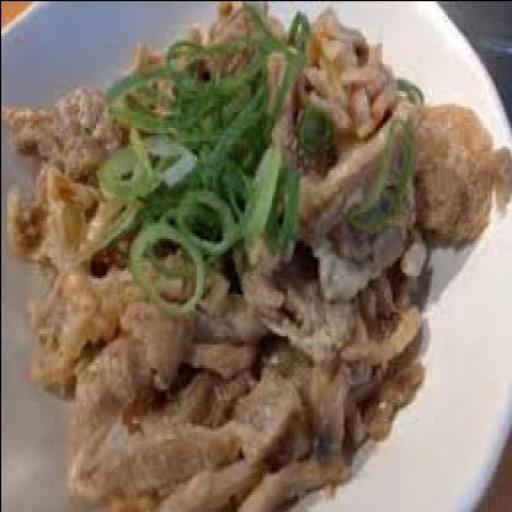biodegradable: (7, 1, 511, 511), (107, 6, 313, 172), (417, 97, 511, 241), (90, 124, 204, 204), (344, 108, 415, 227), (130, 213, 206, 306), (241, 148, 285, 240), (174, 184, 238, 242), (275, 153, 305, 259)
